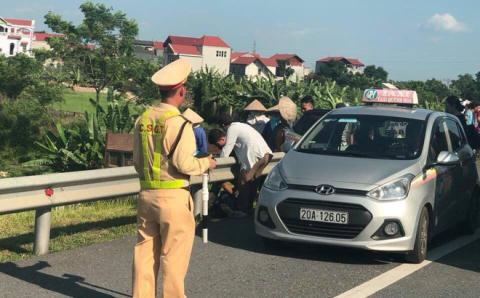corner: (295, 215, 301, 221), (344, 208, 350, 214), (295, 203, 301, 209), (343, 219, 349, 225)
